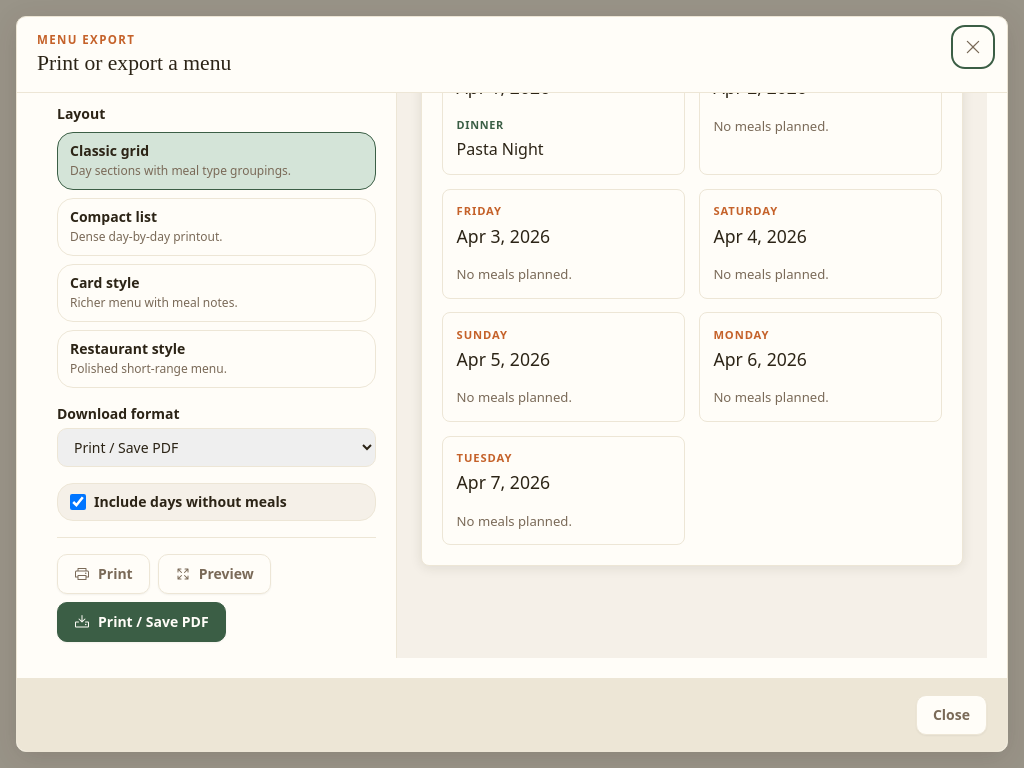
Scenario: MenuPrintExportModal › shows an error when the browser blocks the print preview
The width and height of the screenshot is (1024, 768).
(page scrolled)
Check: the heading "Pasta Night" is shown, box [457, 138, 544, 160]
What coordinates should you click on to do the following:
click the button "Print"
I would click on:
 (103, 574)
Its box is [57, 554, 150, 594].
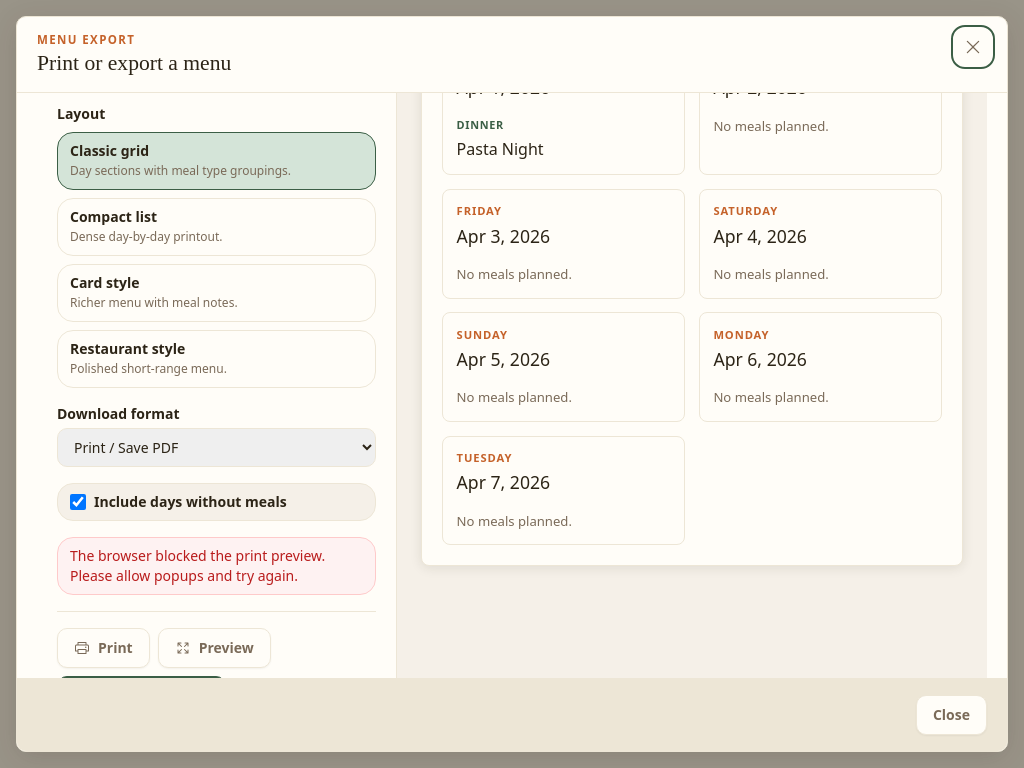
Check: the message shows "blocked the print preview", box [70, 546, 325, 585]
